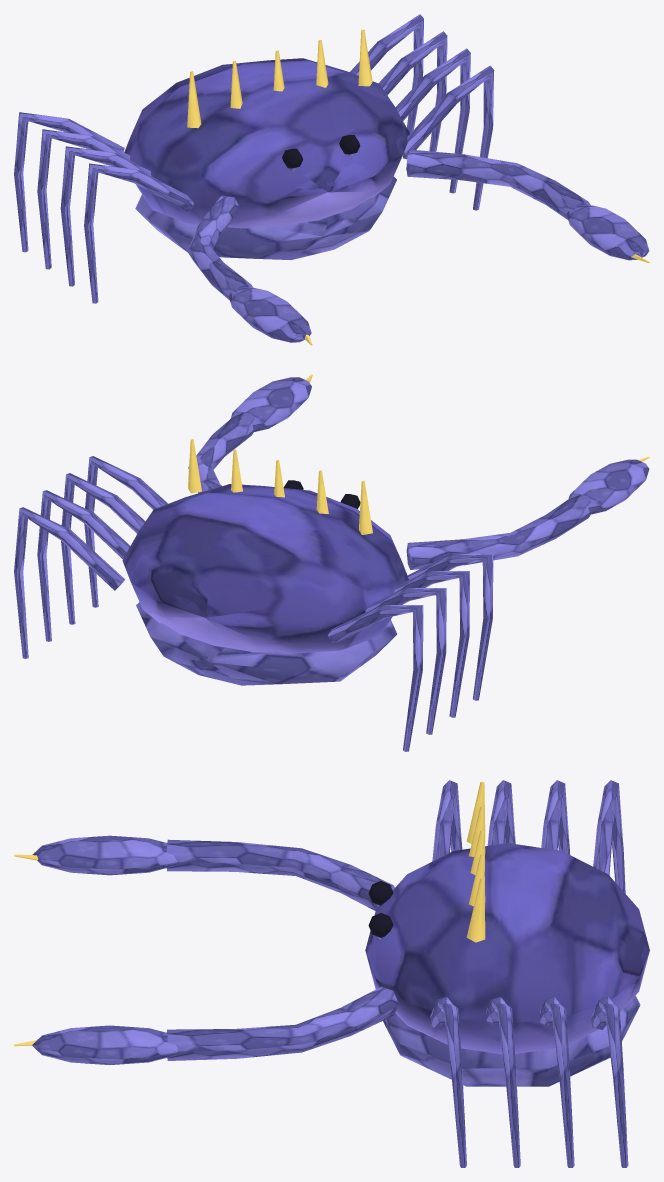
Rendered from alien_spire_crab.glb.
3 views of the same model, one above another, from view 1: azimuth 30°, elevation 25°; view 2: azimuth 150°, elevation 25°; view 3: azimuth 270°, elevation 25° (orthographic). The views are drawn at different scales.
Size of the model in its own units: 0.5146 by 0.2401 by 0.6032.
1 material, 1 textured.
